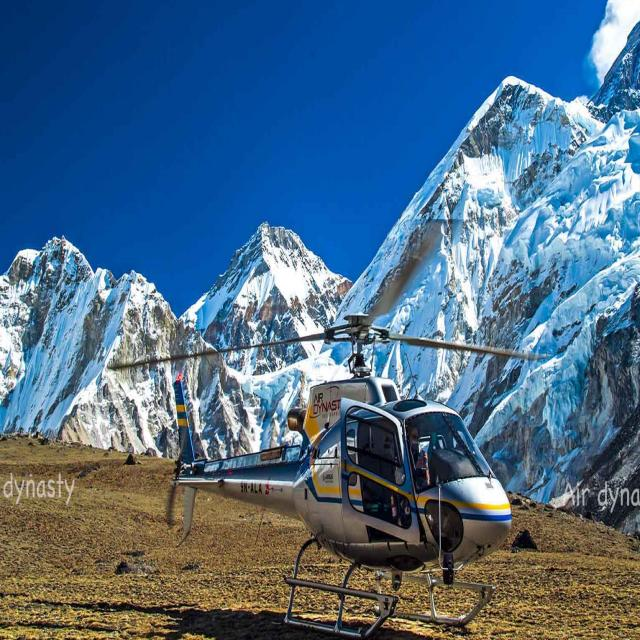helicopter: (90, 290, 563, 640)
